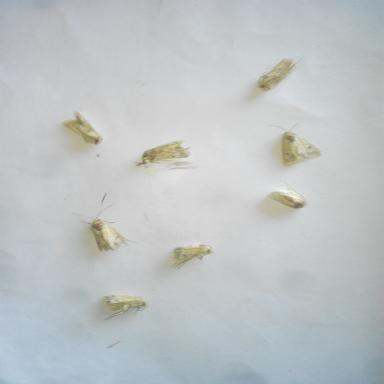abw: (65, 201, 142, 256), (261, 119, 326, 169), (56, 104, 109, 150), (127, 137, 195, 172), (252, 53, 305, 95), (95, 290, 154, 326), (156, 240, 218, 274), (258, 179, 311, 213)
